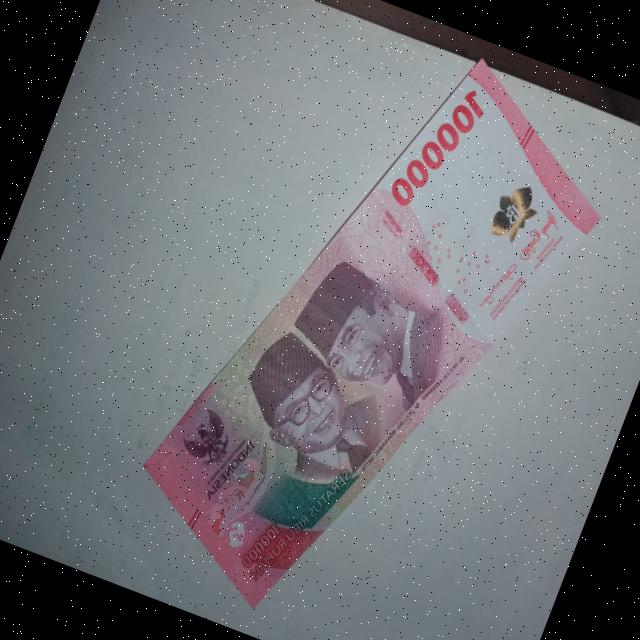100K: (116, 5, 640, 640)
